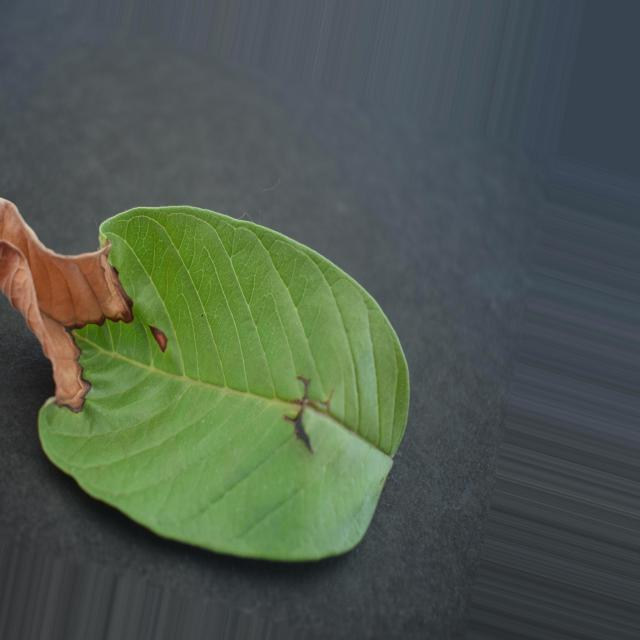Mummification: (0, 199, 409, 561)
